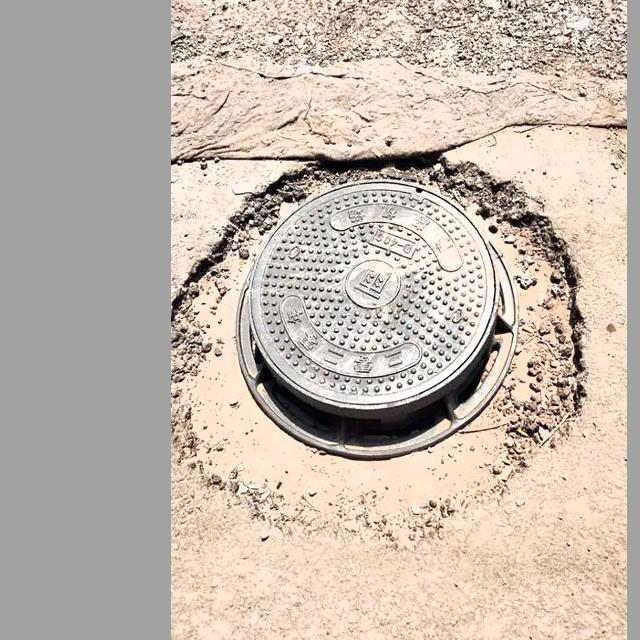circle: (179, 156, 581, 539)
